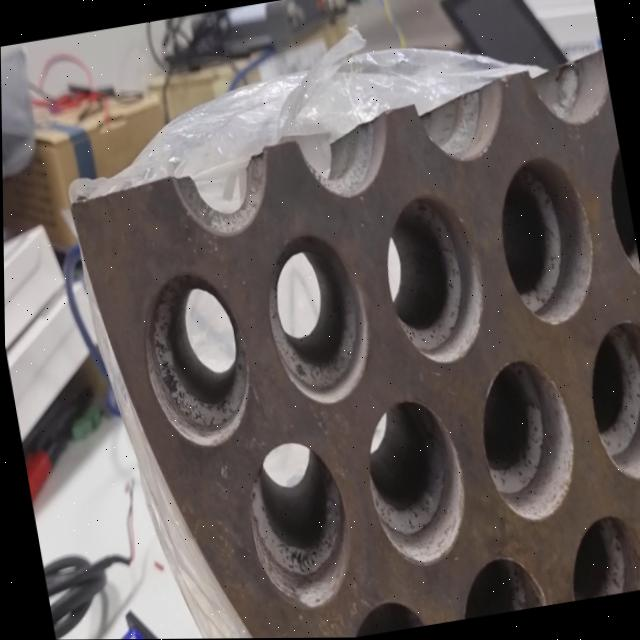Hole: (129, 261, 260, 455), (255, 225, 379, 413), (237, 434, 361, 616), (374, 188, 495, 372), (355, 392, 474, 571), (489, 152, 604, 332), (469, 354, 586, 530), (578, 317, 640, 488), (559, 509, 640, 602), (447, 549, 547, 621)
